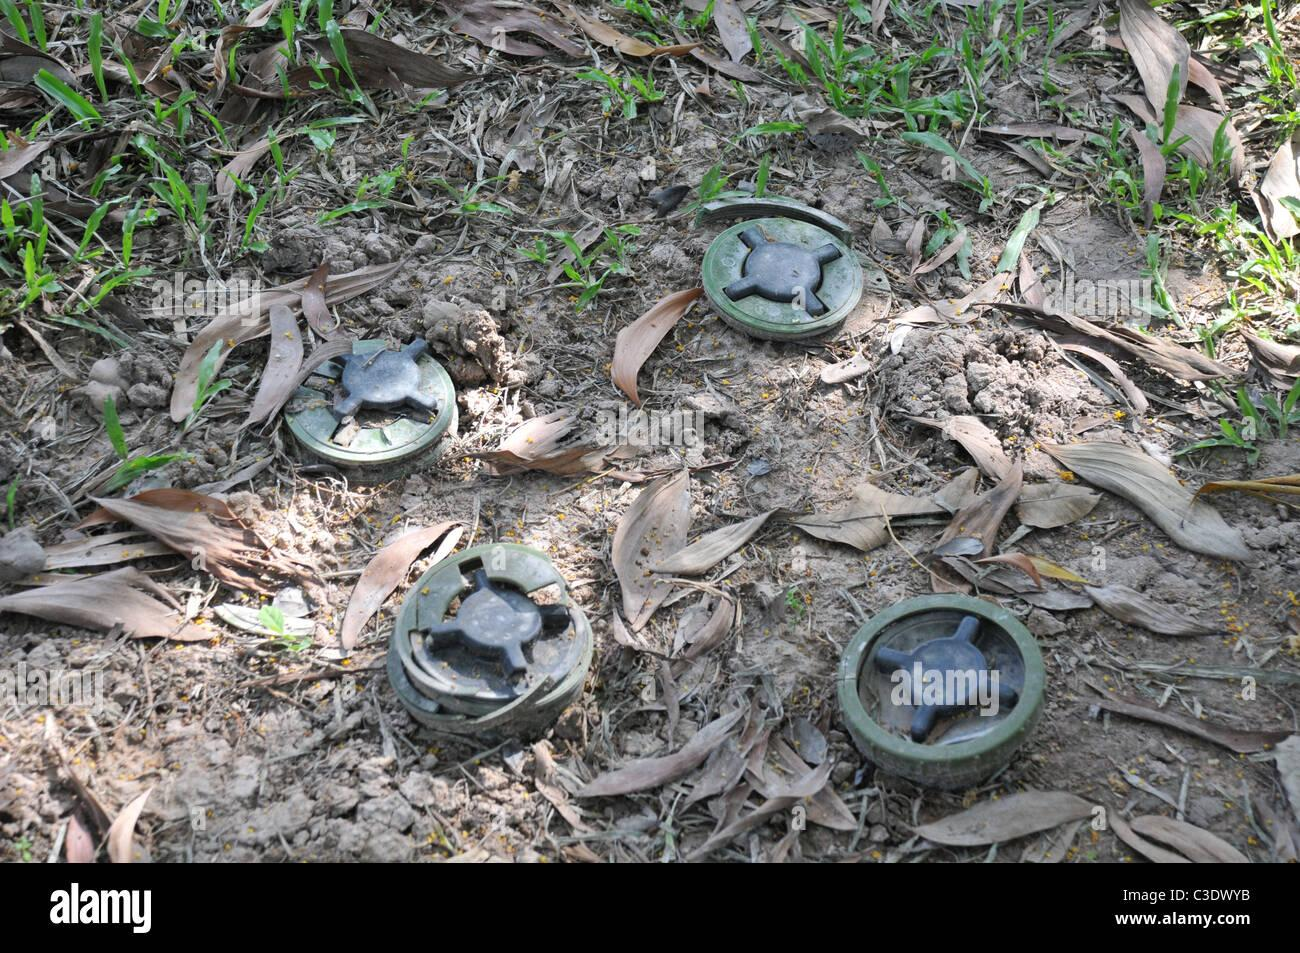pmn: (829, 587, 1049, 795), (380, 535, 597, 742), (273, 326, 460, 476), (694, 210, 862, 342)
